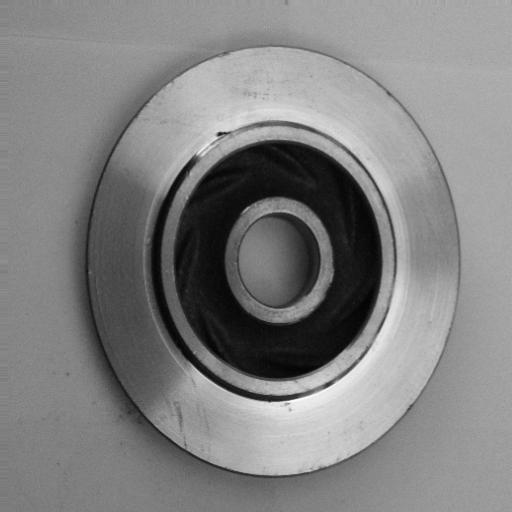crack: (188, 125, 237, 165)
unpolished_casting: (85, 45, 465, 481)
